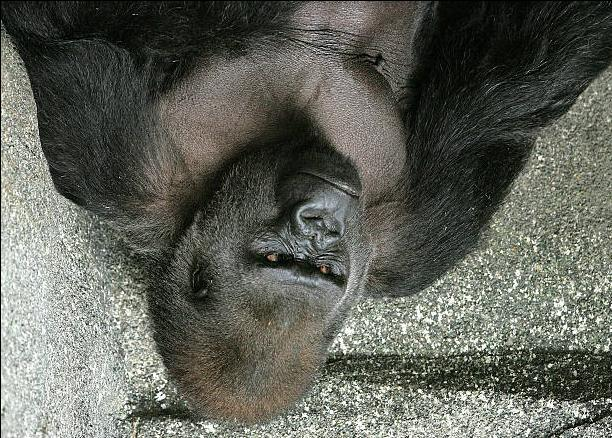gorille_Autres: (16, 0, 533, 438)
